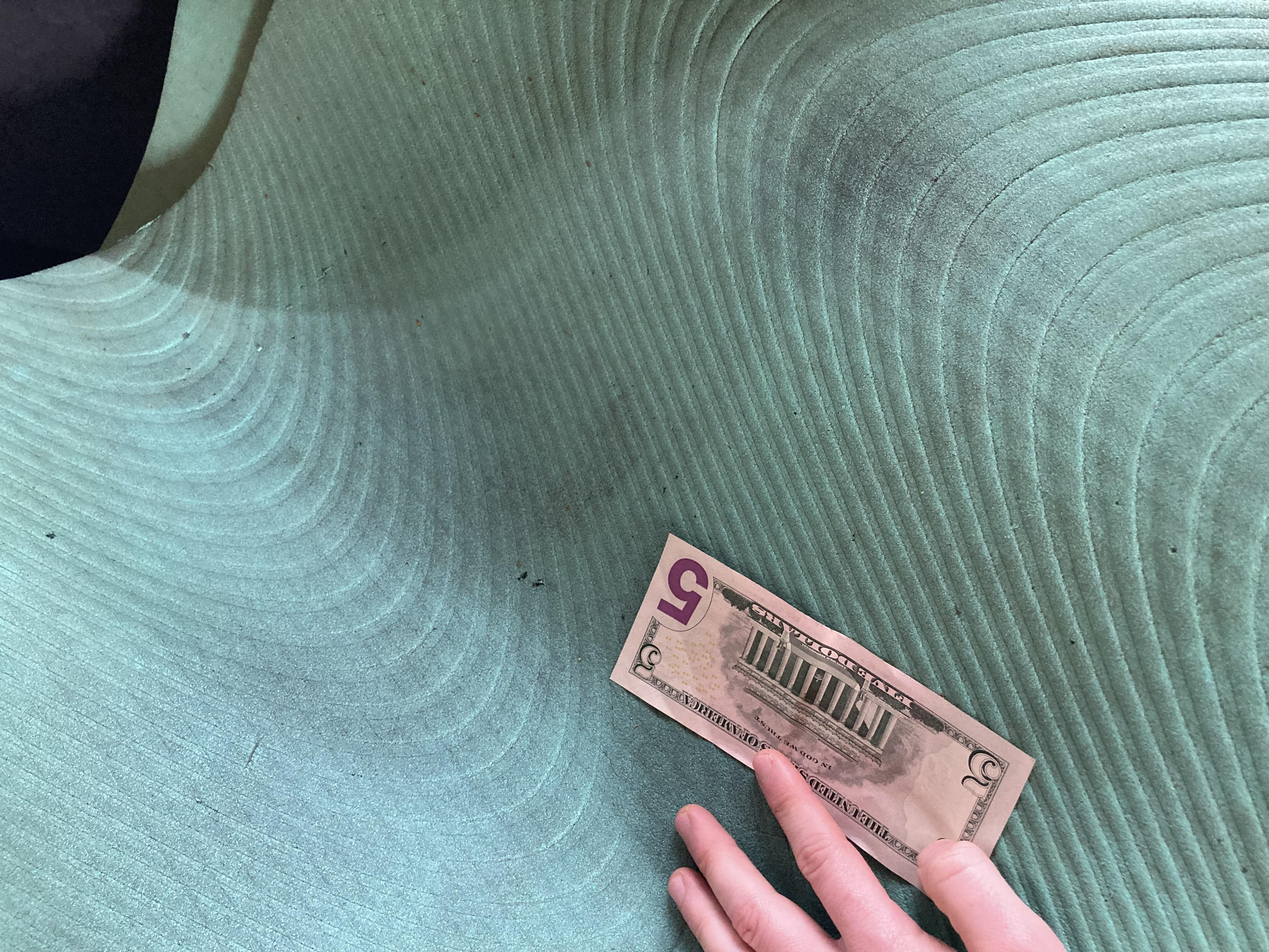five-back: (49, 457, 562, 777)
